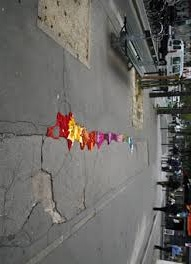pothole: (27, 167, 66, 236)
